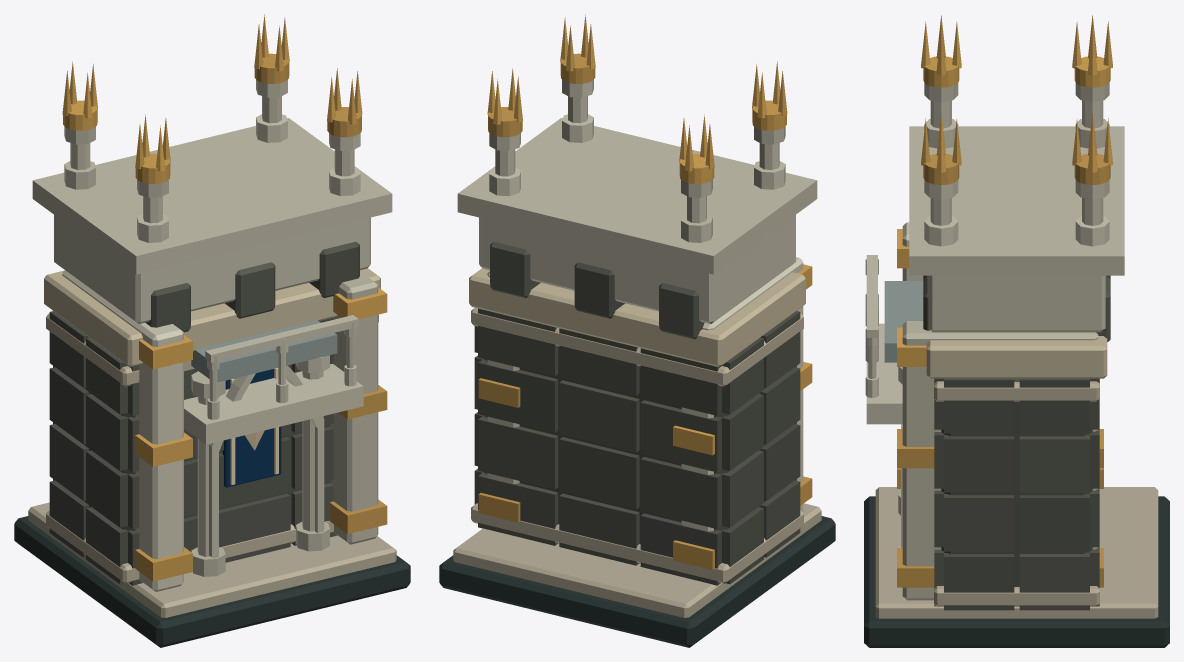
3 renders of one model, left to right at view 1: azimuth 30°, elevation 25°; view 2: azimuth 150°, elevation 25°; view 3: azimuth 270°, elevation 25°, orthographic. The views are drawn at different scales.
Parts seen in each view (by area): view 1: wall_L6_0, wall_L6_1; view 2: wall_L6_0, wall_L6_1; view 3: wall_L6_0, wall_L6_1.
Boxes of the visible parts, left/top/right/bottom form: wall_L6_0: left=14, top=79, right=410, bottom=647; wall_L6_1: left=62, top=14, right=387, bottom=581; wall_L6_0: left=439, top=79, right=835, bottom=647; wall_L6_1: left=478, top=14, right=812, bottom=569; wall_L6_0: left=864, top=83, right=1169, bottom=647; wall_L6_1: left=897, top=15, right=1112, bottom=587.
Size of the model in its own units: 1.87 by 3.46 by 1.86.
